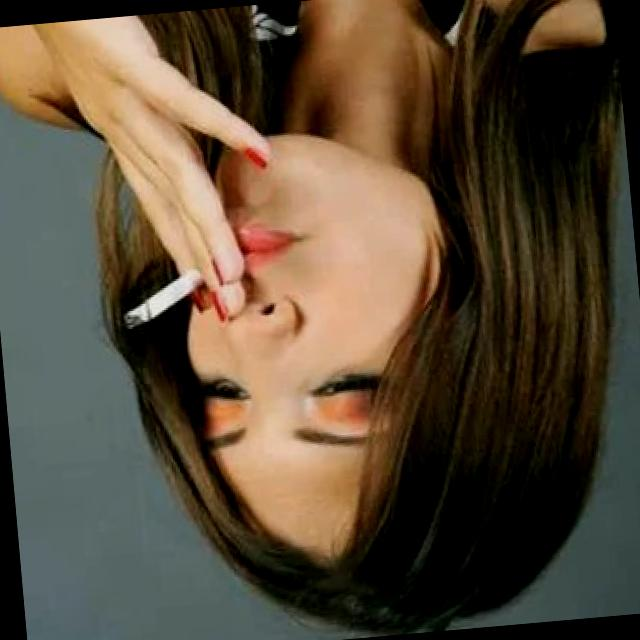cigarette: (119, 262, 212, 333)
